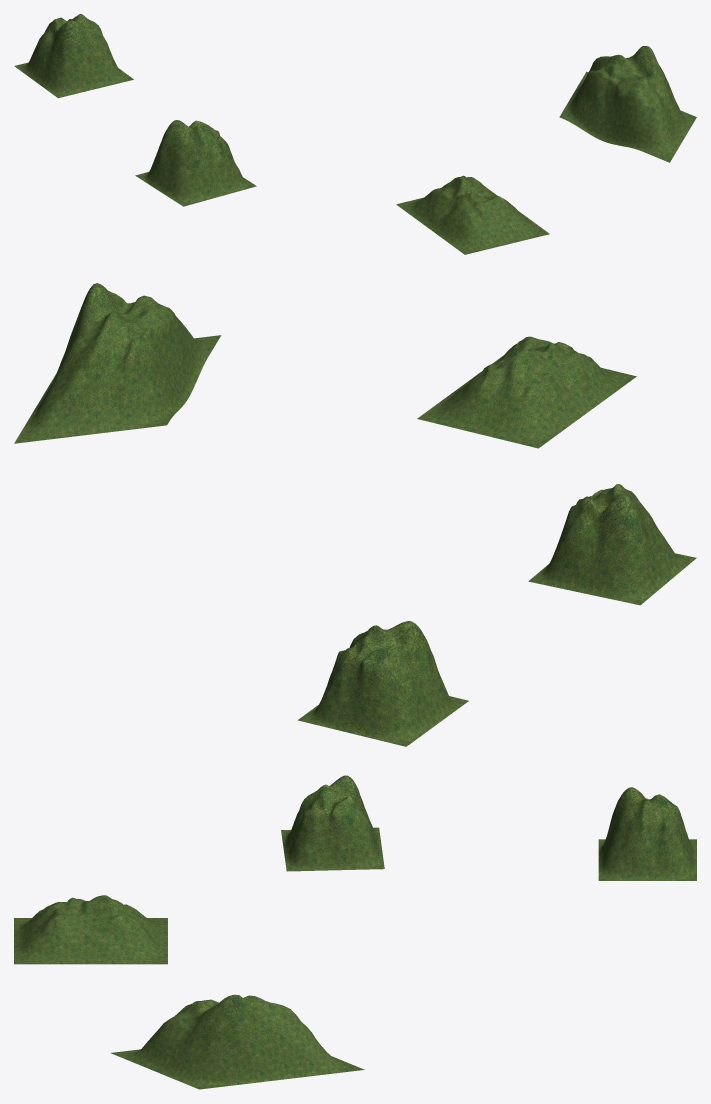
The model's file is Terreno_Montañas.glb.
3 renders of one model, top to bottom at view 1: azimuth 30°, elevation 25°; view 2: azimuth 150°, elevation 25°; view 3: azimuth 270°, elevation 25°, orthographic. The views are drawn at different scales.
Visible parts, largest first — view 1: Retopo_Landscape.015, Retopo_Landscape.016, Retopo_Landscape.009, Retopo_Landscape.002; view 2: Retopo_Landscape.015, Retopo_Landscape.016, Retopo_Landscape.002, Retopo_Landscape.009; view 3: Retopo_Landscape.015, Retopo_Landscape.016, Retopo_Landscape.002, Retopo_Landscape.009.
Part boxes in pixels (<box>): Retopo_Landscape.015: <box>559,46,696,162</box>; Retopo_Landscape.016: <box>396,175,549,254</box>; Retopo_Landscape.009: <box>135,120,256,206</box>; Retopo_Landscape.002: <box>14,14,133,98</box>; Retopo_Landscape.015: <box>14,283,221,443</box>; Retopo_Landscape.016: <box>417,336,636,448</box>; Retopo_Landscape.002: <box>298,621,468,746</box>; Retopo_Landscape.009: <box>528,484,696,605</box>; Retopo_Landscape.015: <box>111,994,364,1089</box>; Retopo_Landscape.016: <box>14,895,167,964</box>; Retopo_Landscape.002: <box>598,787,696,880</box>; Retopo_Landscape.009: <box>281,775,384,871</box>.
Bounding box in the file's own units: 421 × 61.55 × 464.
Materials: 4 (4 with a texture image).
